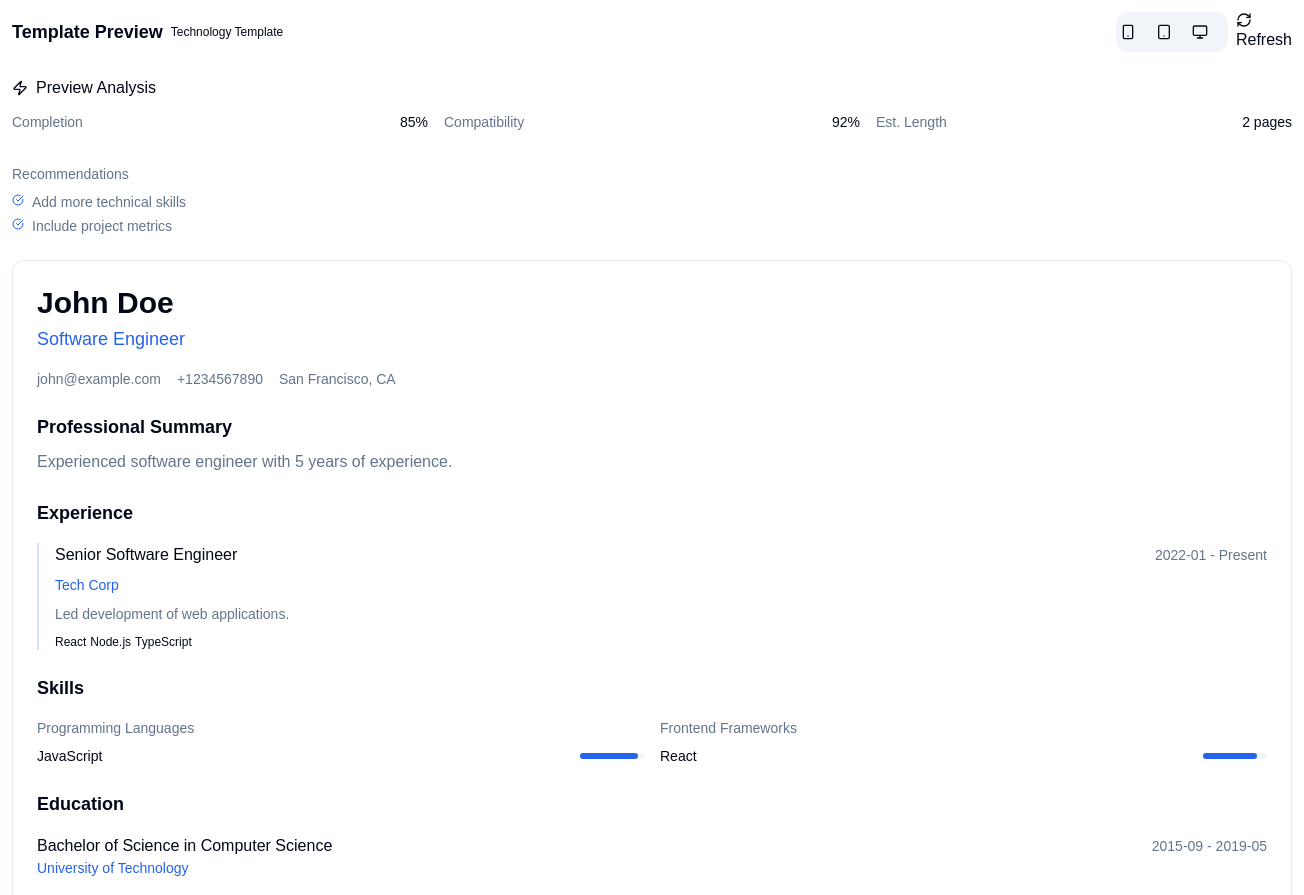
Test: TemplatePreview › responsive behavior › should apply tablet viewport styles
Click the button titled "Tablet" at [1172, 32], box [1156,16,1188,48]
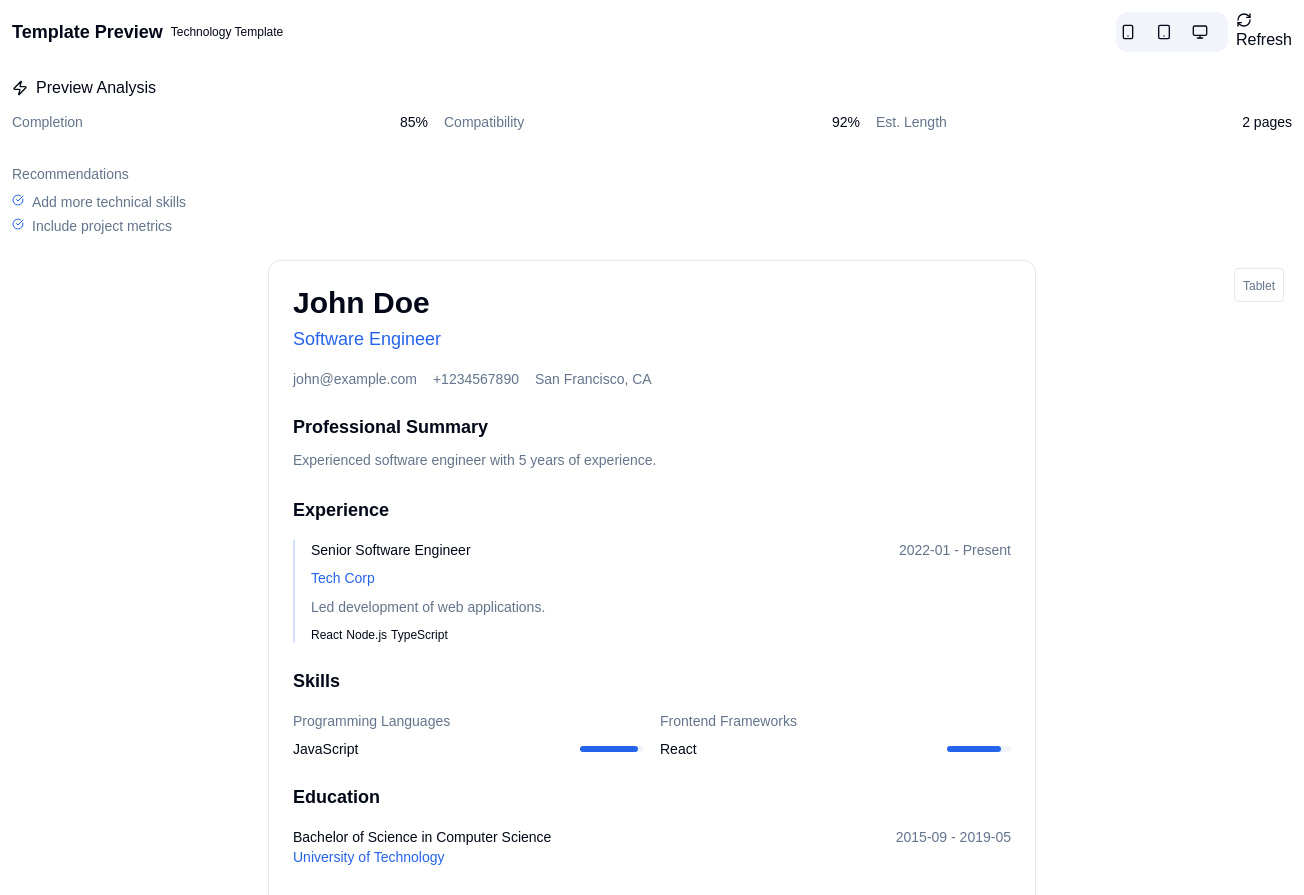
Expected: the text "Tablet" is shown, [1243,279,1275,293]
